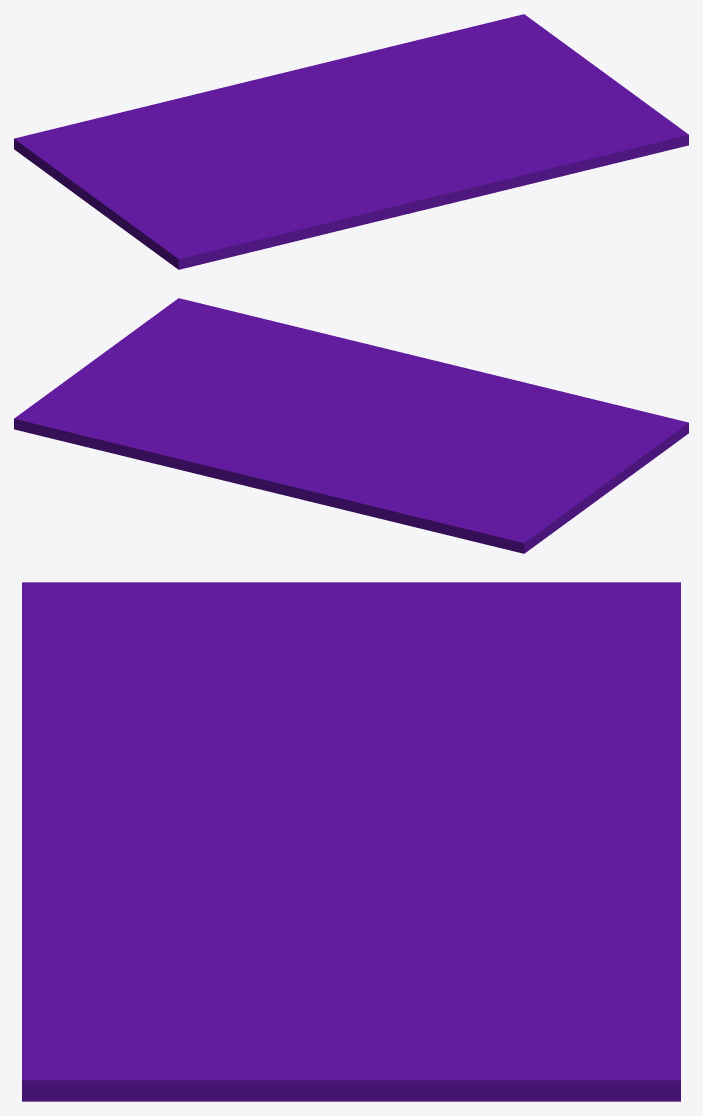
Rendered from Exhibition_19.013_chunks.fbx.
3 views of the same model, one above another, from view 1: azimuth 30°, elevation 25°; view 2: azimuth 150°, elevation 25°; view 3: azimuth 270°, elevation 25° (orthographic). The views are drawn at different scales.
Parts seen in each view (by area): view 1: Exhibition_19.013_1, Exhibition_19.013_0, Exhibition_19.013_6, Exhibition_19.013_3, Exhibition_19.013_2, Exhibition_19.013_4, Exhibition_19.013_5; view 2: Exhibition_19.013_1, Exhibition_19.013_0, Exhibition_19.013_6, Exhibition_19.013_3, Exhibition_19.013_2, Exhibition_19.013_4, Exhibition_19.013_5; view 3: Exhibition_19.013_1, Exhibition_19.013_0, Exhibition_19.013_6, Exhibition_19.013_3, Exhibition_19.013_2, Exhibition_19.013_4, Exhibition_19.013_5.
Part boxes in pixels (bbox=[...]): Exhibition_19.013_1: bbox=[356, 14, 688, 203]; Exhibition_19.013_0: bbox=[33, 137, 452, 269]; Exhibition_19.013_6: bbox=[209, 44, 401, 112]; Exhibition_19.013_3: bbox=[14, 91, 230, 164]; Exhibition_19.013_2: bbox=[322, 36, 432, 138]; Exhibition_19.013_4: bbox=[246, 105, 349, 140]; Exhibition_19.013_5: bbox=[105, 109, 246, 148]; Exhibition_19.013_1: bbox=[14, 298, 414, 451]; Exhibition_19.013_0: bbox=[353, 356, 688, 537]; Exhibition_19.013_6: bbox=[107, 437, 354, 504]; Exhibition_19.013_3: bbox=[323, 478, 545, 553]; Exhibition_19.013_2: bbox=[105, 418, 366, 448]; Exhibition_19.013_4: bbox=[288, 431, 412, 470]; Exhibition_19.013_5: bbox=[354, 457, 498, 504]; Exhibition_19.013_1: bbox=[22, 832, 680, 1101]; Exhibition_19.013_0: bbox=[22, 582, 604, 849]; Exhibition_19.013_6: bbox=[483, 771, 680, 960]; Exhibition_19.013_3: bbox=[549, 582, 680, 772]; Exhibition_19.013_2: bbox=[340, 809, 680, 991]; Exhibition_19.013_4: bbox=[379, 750, 555, 860]; Exhibition_19.013_5: bbox=[438, 638, 584, 778].
Size of the model in its own units: 642 by 12.85 by 359.
